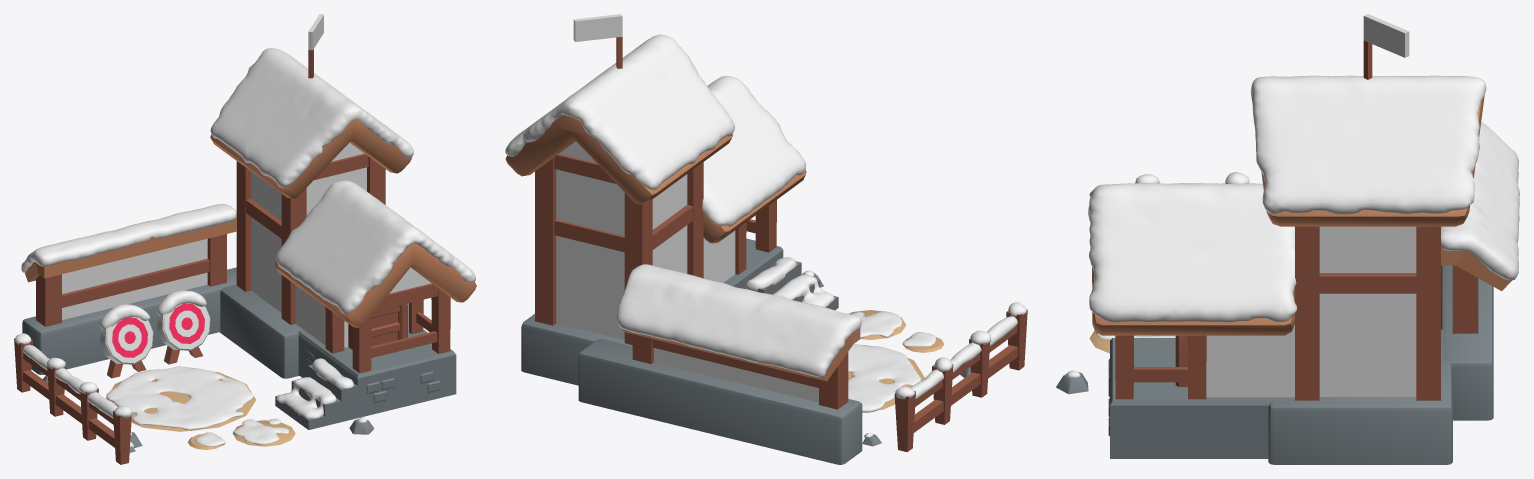
Rendered from archeryrange.fbx.
The picture shows the model from 3 angles, left to right: view 1: azimuth 30°, elevation 25°; view 2: azimuth 150°, elevation 25°; view 3: azimuth 270°, elevation 25°; orthographic projection. The views are drawn at different scales.
Parts seen in each view (by area): view 1: SnowBall.002, SnowBall.001, SnowBall.009, archeryrange.010, archeryrange, archeryrange.028, archeryrange.007, SnowBall.003, archeryrange.001, archeryrange.016, archeryrange.006, archeryrange.029 (+31 smaller); view 2: archeryrange, SnowBall.002, SnowBall.003, archeryrange.001, SnowBall.001, archeryrange.006, archeryrange.007, archeryrange.002, SnowBall.009, archeryrange.028, archeryrange.003, archeryrange.009 (+22 smaller); view 3: SnowBall.002, SnowBall.001, archeryrange.001, archeryrange.007, archeryrange.010, SnowBall.003, archeryrange.012, archeryrange, archeryrange.002, archeryrange.005, archeryrange.006, archeryrange.016 (+9 smaller).
Part boxes in pixels (left/top/right/bottom): SnowBall.002: left=210, top=48, right=413, bottom=187; SnowBall.001: left=275, top=180, right=475, bottom=314; SnowBall.009: left=106, top=366, right=253, bottom=430; archeryrange.010: left=298, top=329, right=456, bottom=417; archeryrange: left=22, top=267, right=236, bottom=374; archeryrange.028: left=62, top=238, right=207, bottom=319; archeryrange.007: left=219, top=284, right=302, bottom=378; SnowBall.003: left=21, top=204, right=236, bottom=272; archeryrange.001: left=251, top=142, right=366, bottom=312; archeryrange.016: left=275, top=242, right=476, bottom=327; archeryrange.006: left=210, top=119, right=411, bottom=198; archeryrange.029: left=25, top=216, right=236, bottom=282; archeryrange: left=578, top=339, right=862, bottom=464; SnowBall.002: left=505, top=34, right=734, bottom=189; SnowBall.003: left=617, top=264, right=861, bottom=377; archeryrange.001: left=556, top=141, right=687, bottom=339; SnowBall.001: left=702, top=76, right=806, bottom=226; archeryrange.006: left=505, top=115, right=733, bottom=204; archeryrange.007: left=521, top=314, right=632, bottom=385; archeryrange.002: left=535, top=157, right=556, bottom=325; SnowBall.009: left=848, top=343, right=921, bottom=412; archeryrange.028: left=654, top=348, right=818, bottom=402; archeryrange.003: left=624, top=193, right=652, bottom=344; archeryrange.009: left=554, top=205, right=692, bottom=252; SnowBall.002: left=1250, top=75, right=1486, bottom=214; SnowBall.001: left=1088, top=183, right=1297, bottom=322; archeryrange.001: left=1319, top=226, right=1416, bottom=396; archeryrange.007: left=1268, top=329, right=1452, bottom=464; archeryrange.010: left=1110, top=338, right=1274, bottom=458; SnowBall.003: left=1441, top=122, right=1519, bottom=280; archeryrange.012: left=1206, top=324, right=1294, bottom=397; archeryrange: left=1441, top=265, right=1493, bottom=420; archeryrange.002: left=1416, top=226, right=1440, bottom=400; archeryrange.005: left=1295, top=226, right=1319, bottom=400; archeryrange.006: left=1251, top=93, right=1484, bottom=226; archeryrange.016: left=1092, top=267, right=1294, bottom=335.
Bounding box in the file's own units: 183 × 155 × 157.
